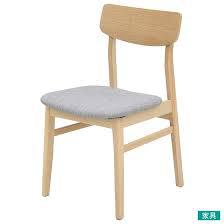chair: (27, 8, 203, 213)
